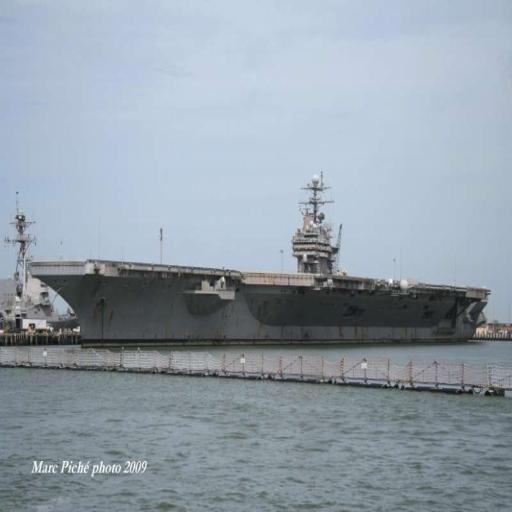Portanaves: (24, 162, 499, 353)
